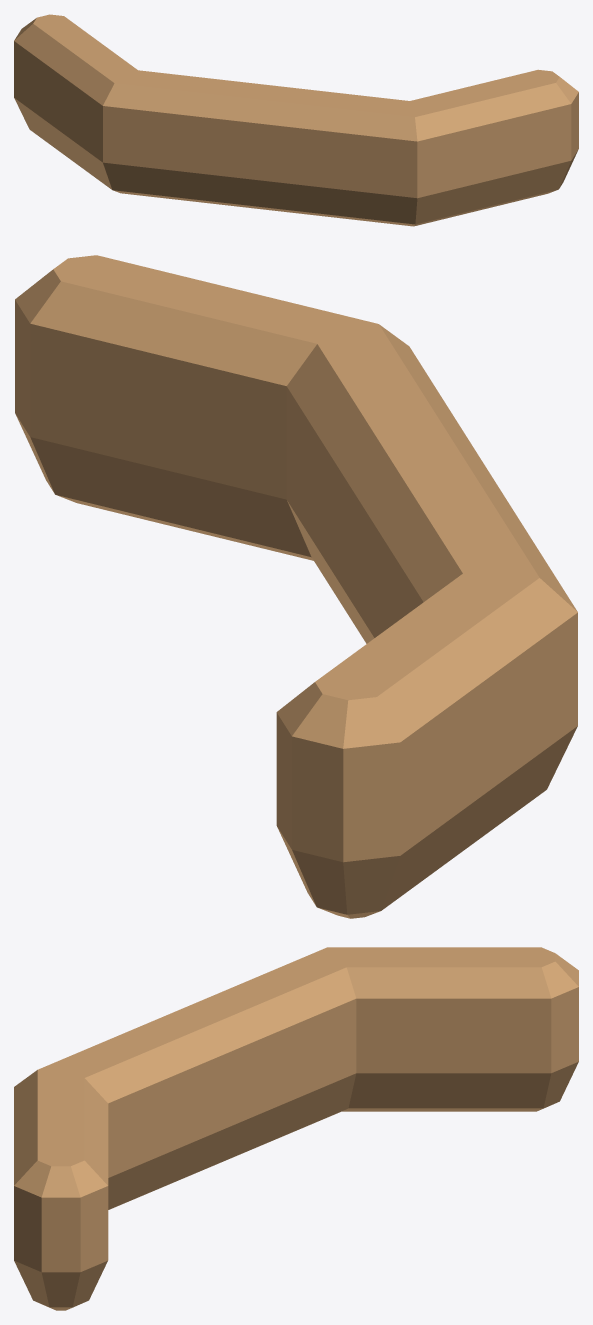
File: Balcony_Base_Curved_Small.obj
The picture shows the model from 3 angles, top to bottom: view 1: azimuth 30°, elevation 25°; view 2: azimuth 150°, elevation 25°; view 3: azimuth 270°, elevation 25°; orthographic projection. The views are drawn at different scales.
Visible parts, largest first — view 1: object1; view 2: object1; view 3: object1.
Boxes of the visible parts, bbox=[...] form: object1: bbox=[14, 14, 578, 226]; object1: bbox=[15, 255, 577, 918]; object1: bbox=[14, 947, 578, 1310].
Size of the model in its own units: 1.2 by 0.35 by 1.2.
